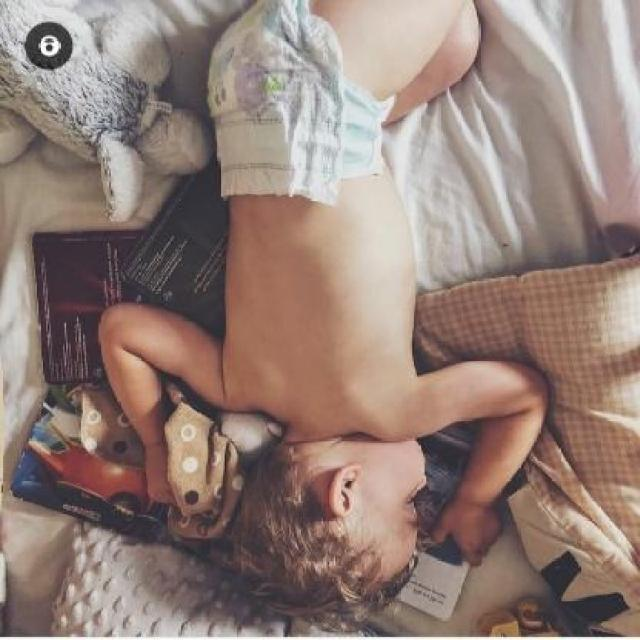baby: (97, 2, 548, 610)
